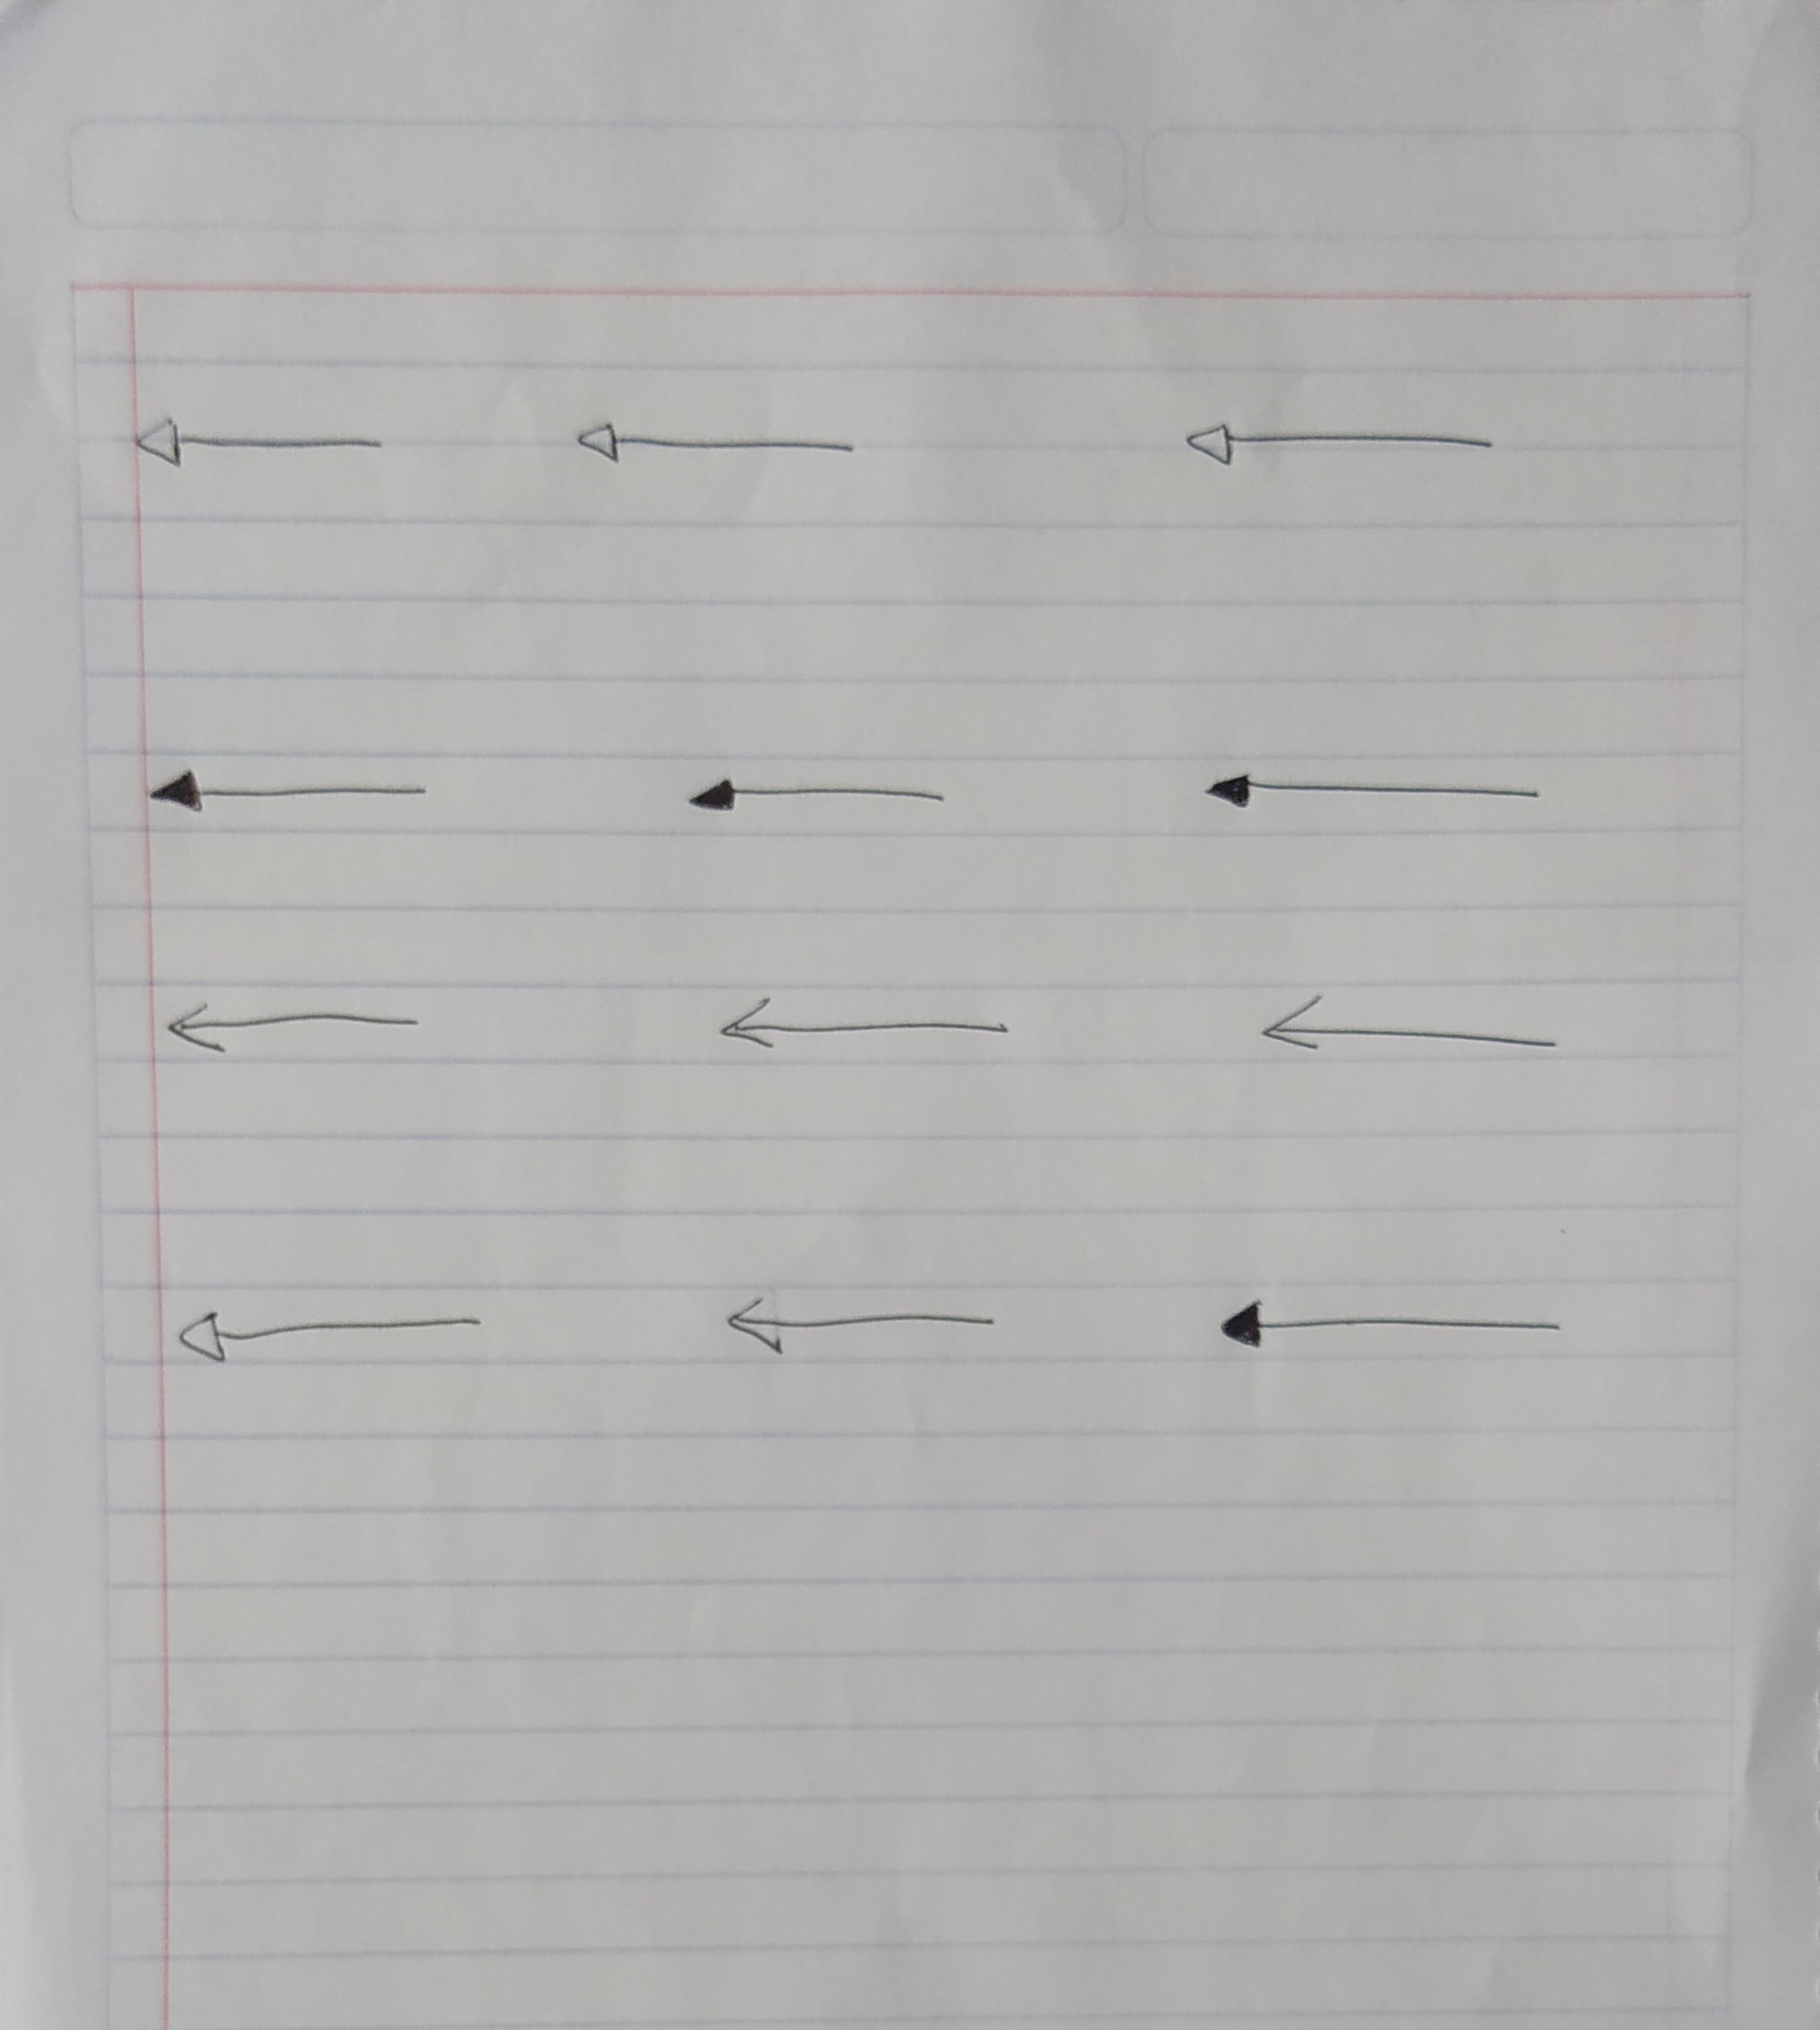arrow_line_left: (1260, 987, 1571, 1062), (1217, 1292, 1560, 1361), (717, 992, 1024, 1068), (169, 1301, 490, 1371), (720, 1287, 998, 1364), (162, 994, 432, 1064), (1182, 418, 1500, 476), (1202, 762, 1551, 815), (571, 418, 861, 481), (125, 414, 390, 474), (682, 769, 956, 825), (142, 767, 439, 817)
